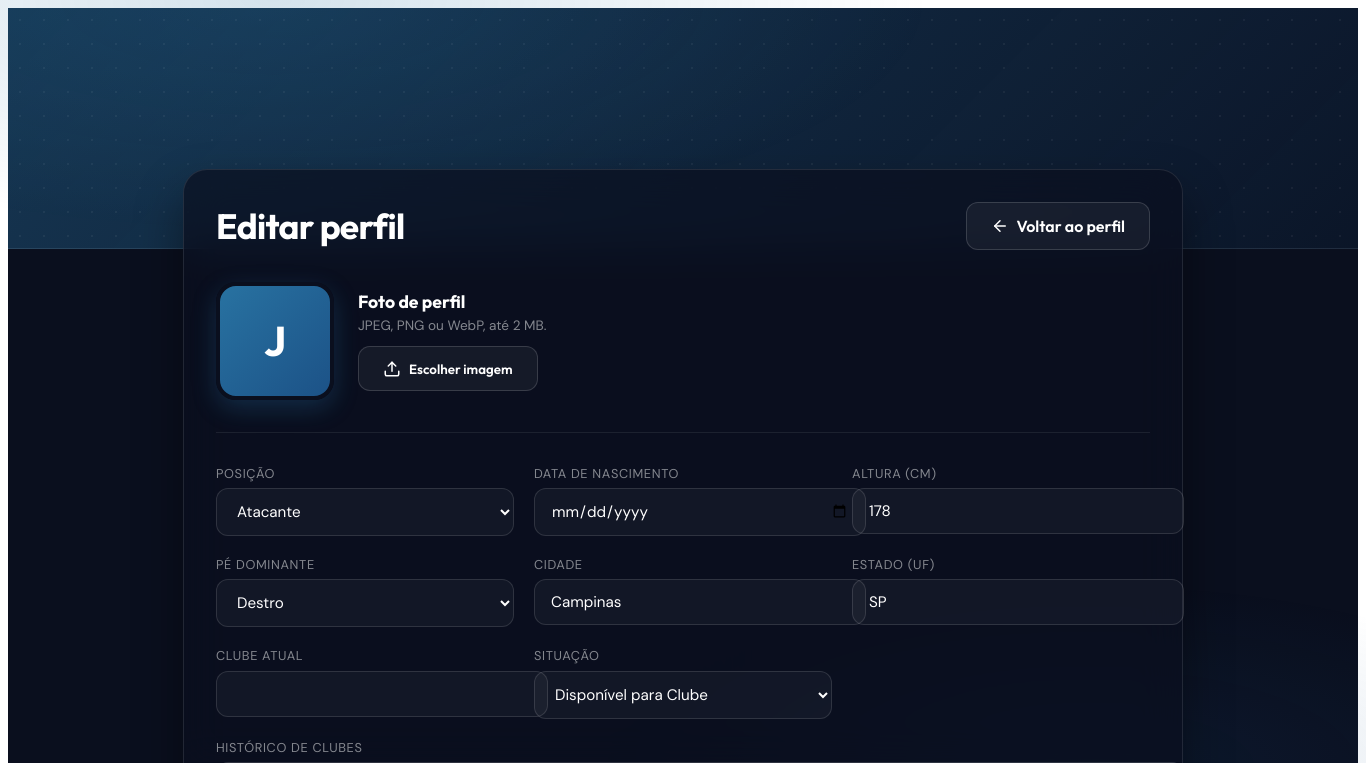
Test: EditProfile — salvamento parcial › confirma o sucesso do salvamento
Replace the text in the field labelled "Cidade" with "Santos" at (700, 602), box x1=534 y1=579 x2=866 y2=625
(page scrolled)
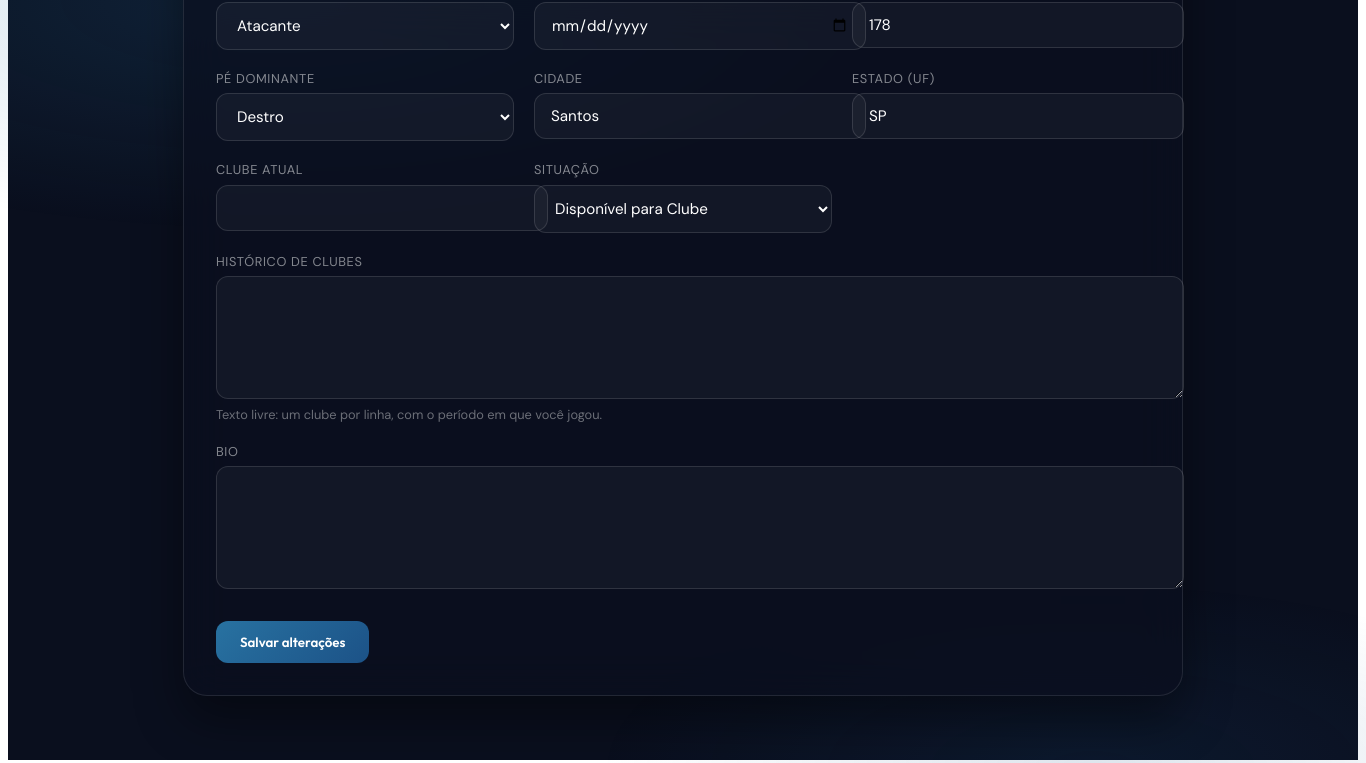
Click the button "Salvar alterações" at (293, 642), box x1=216 y1=621 x2=369 y2=663
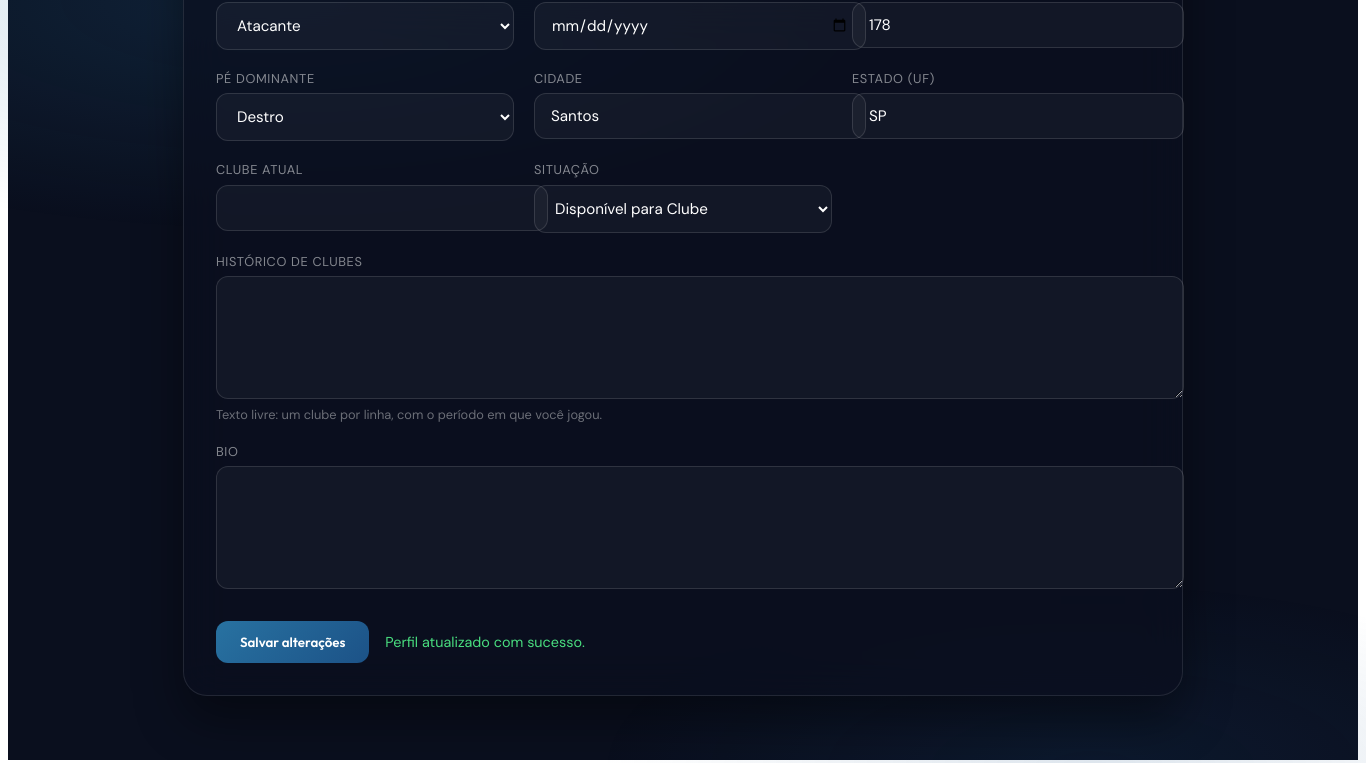
Expected: the text "Perfil atualizado com sucesso." is shown, x1=385 y1=633 x2=585 y2=651
